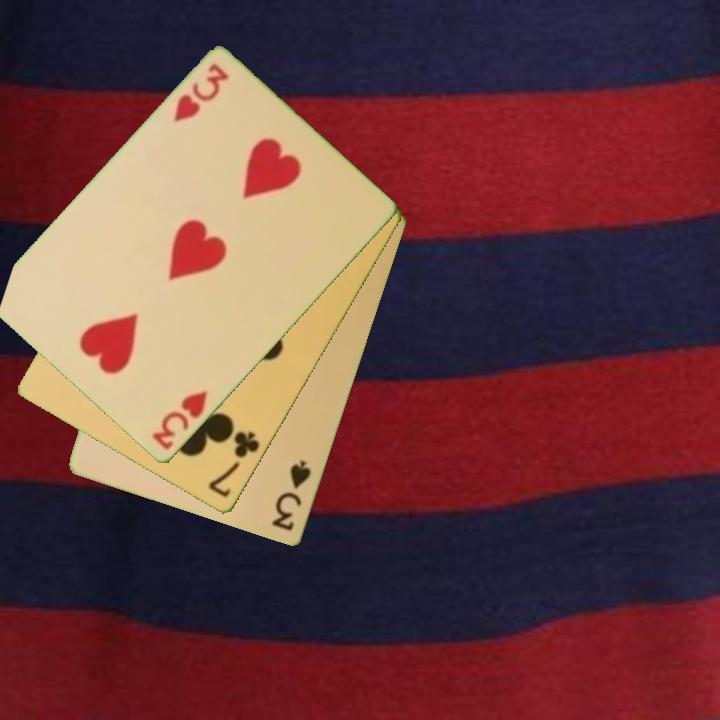3h: (169, 60, 232, 127), (148, 388, 211, 454)
3s: (268, 457, 315, 534)
7c: (205, 428, 263, 501)
